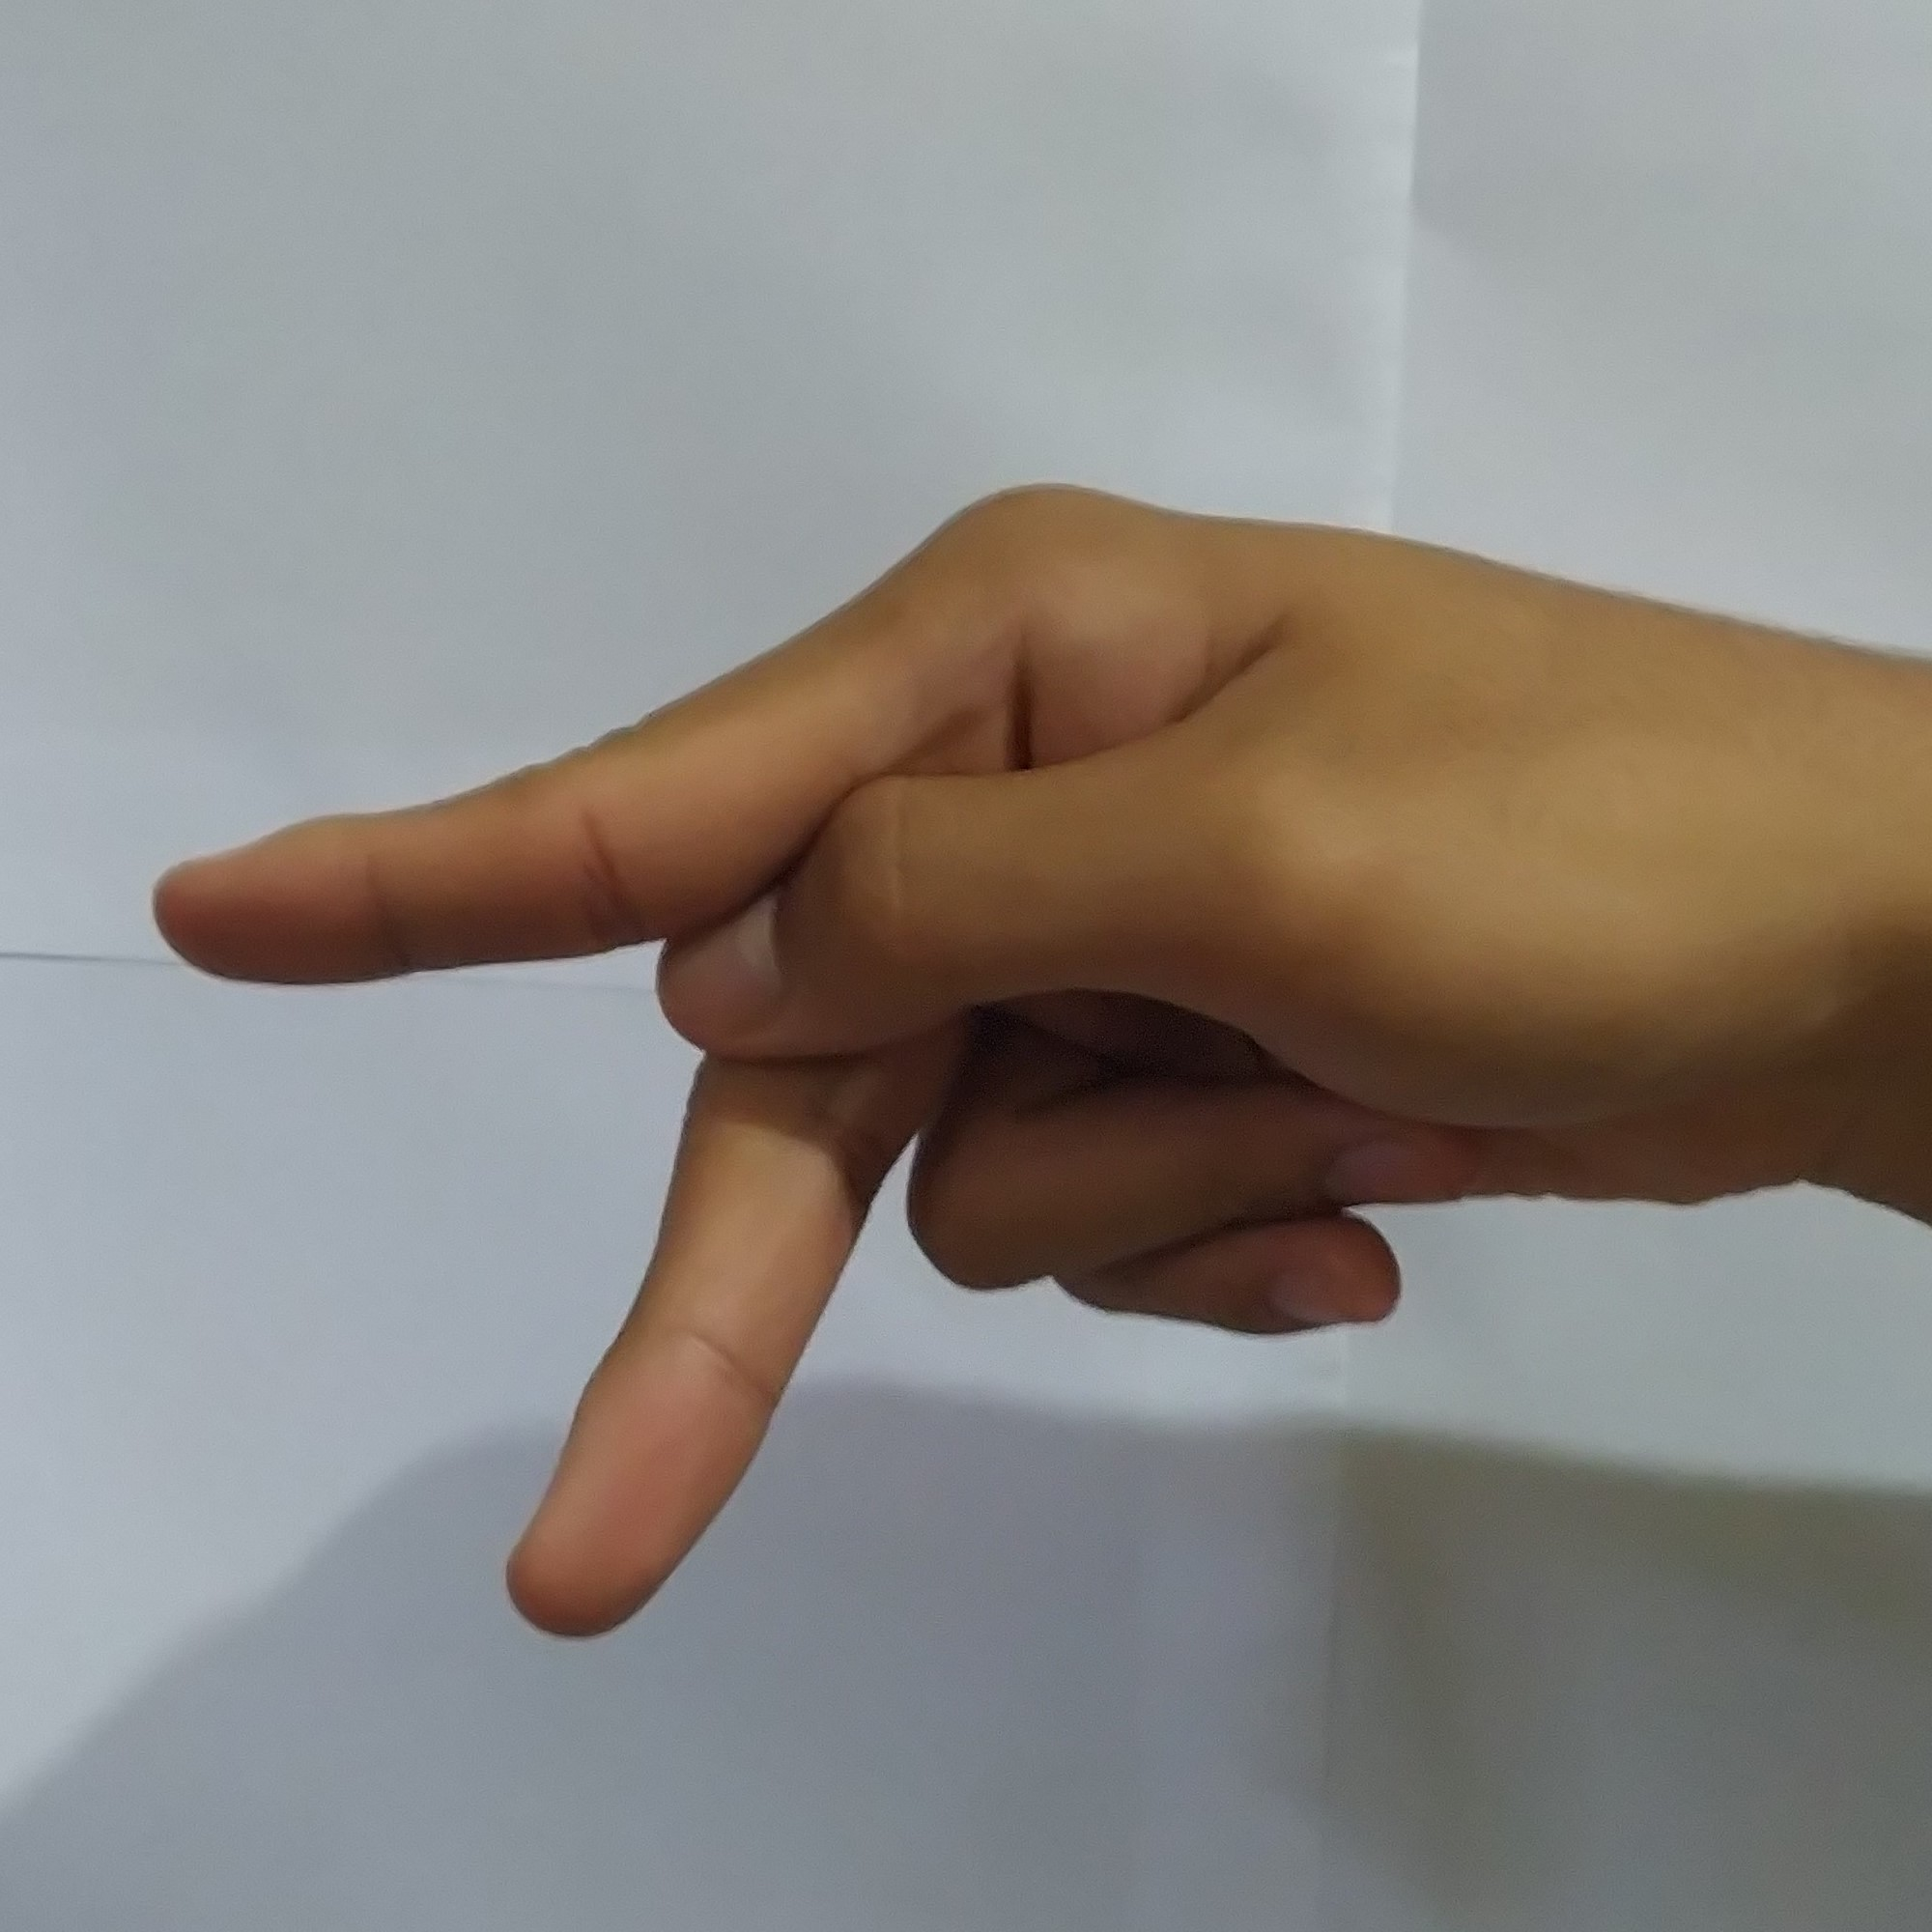P: (131, 464, 1803, 1658)
